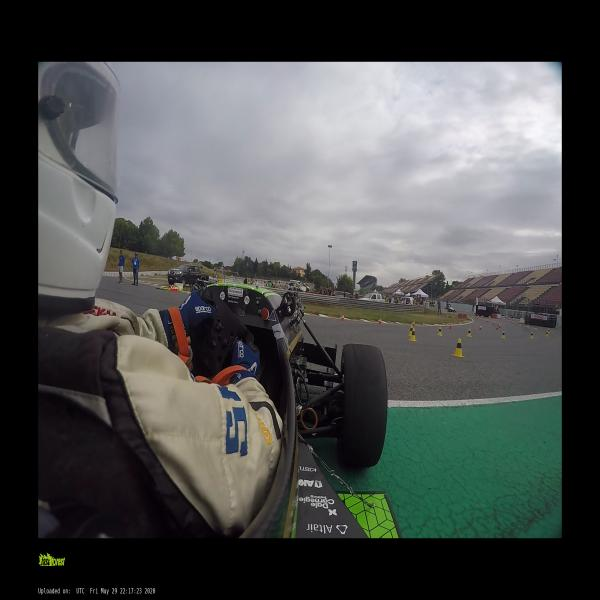orange_cone: (341, 314, 344, 322), (378, 318, 381, 325), (412, 320, 415, 326), (479, 325, 482, 330), (449, 323, 451, 329), (175, 286, 177, 292), (496, 325, 498, 330), (170, 286, 172, 291), (173, 286, 175, 291), (499, 323, 500, 328)
yellow_cone: (451, 338, 464, 357), (409, 328, 417, 342), (408, 325, 414, 336), (437, 327, 442, 336), (466, 328, 471, 337), (501, 331, 505, 339), (530, 332, 534, 339), (544, 331, 548, 337), (547, 328, 550, 334), (534, 325, 537, 330), (527, 322, 529, 328), (519, 321, 521, 326)
